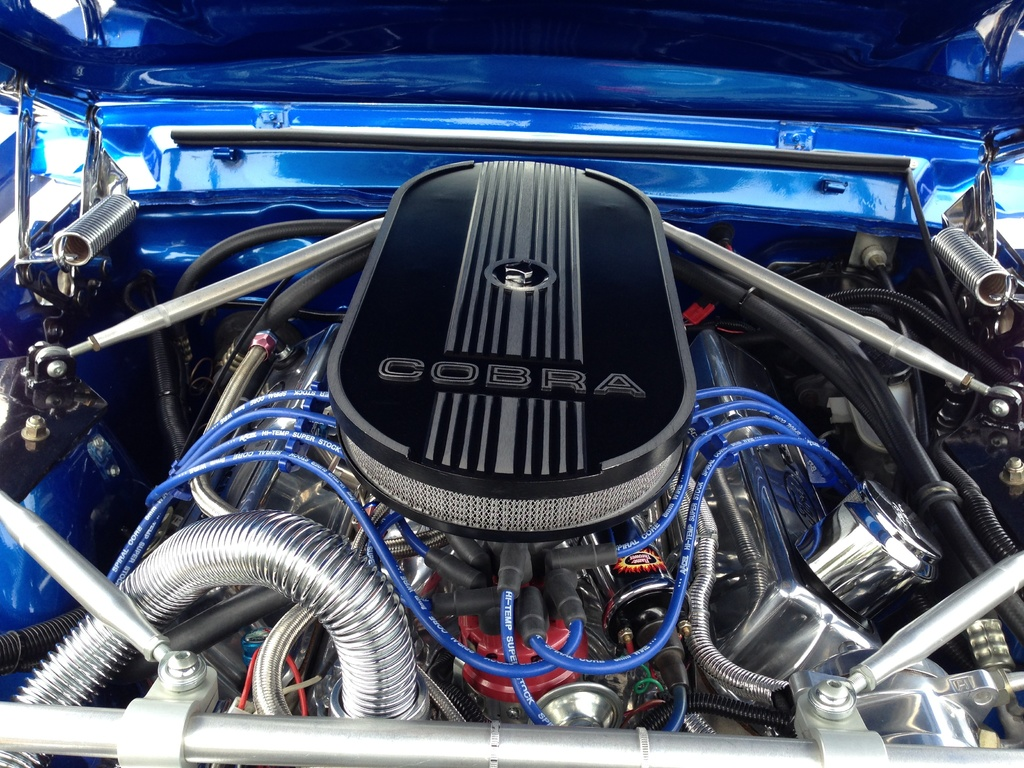Car: (37, 34, 1024, 768)
